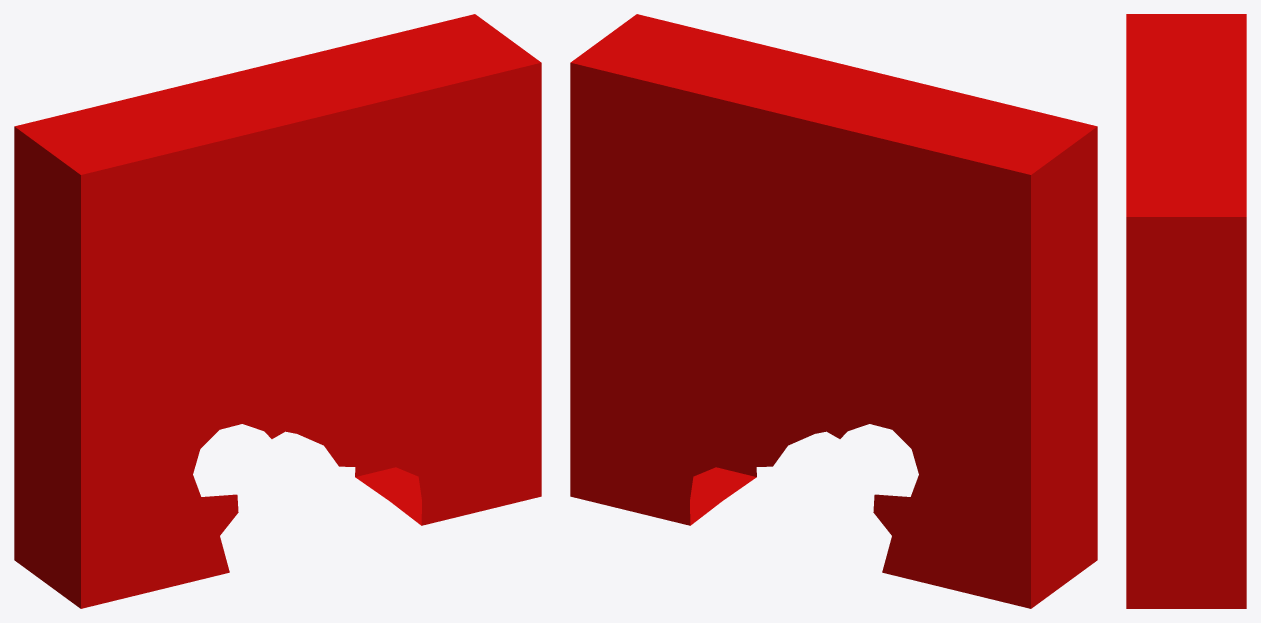
3 renders of one model, left to right at view 1: azimuth 30°, elevation 25°; view 2: azimuth 150°, elevation 25°; view 3: azimuth 270°, elevation 25°, orthographic. The views are drawn at different scales.
Parts seen in each view (by area): view 1: h4.001; view 2: h4.001; view 3: h4.001.
Boxes of the visible parts, box(x1,y1,x2,y2) form: h4.001: box(14, 14, 541, 608); h4.001: box(570, 14, 1097, 608); h4.001: box(1126, 14, 1246, 608).
Bounding box in the file's own units: 2 × 1.8 × 0.5.
